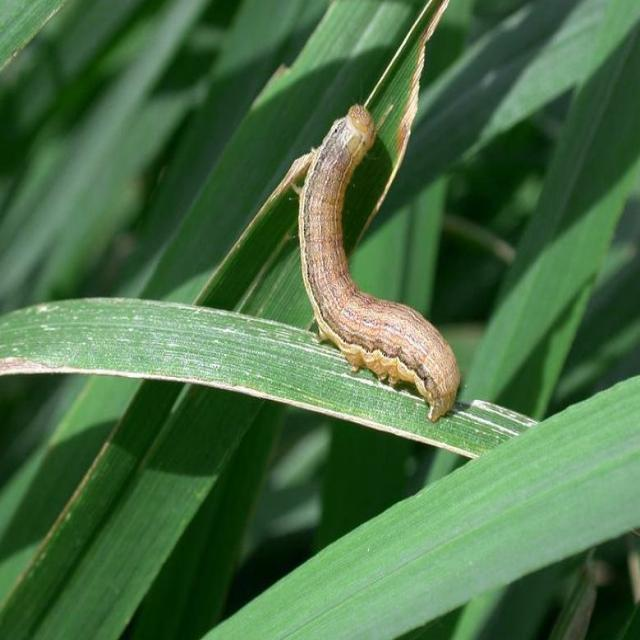army worm: (297, 101, 466, 427)
